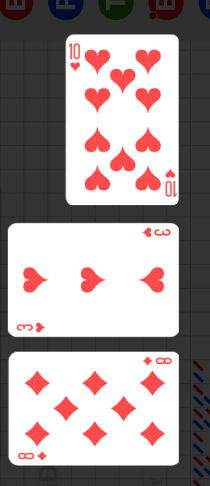10H: (163, 166, 178, 199), (69, 42, 83, 74)
8D: (141, 355, 173, 367)
